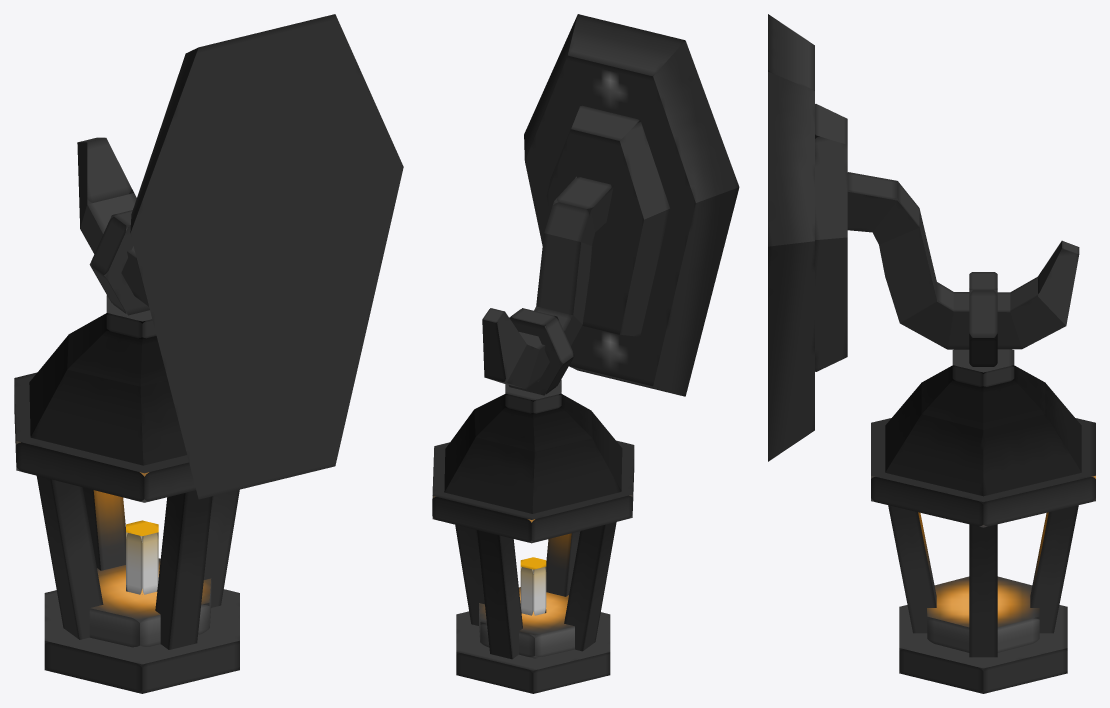
Rendered from lantern and hook.fbx.
3 views of the same model, side by side, from view 1: azimuth 30°, elevation 25°; view 2: azimuth 150°, elevation 25°; view 3: azimuth 270°, elevation 25° (orthographic). The views are drawn at different scales.
Visible parts, largest first — view 1: wall hook, lantern; view 2: wall hook, lantern; view 3: lantern, wall hook.
Boxes of the visible parts, box(x1,y1,x2,y2) form: wall hook: box(77, 14, 403, 499); lantern: box(14, 210, 239, 693); wall hook: box(482, 14, 739, 396); lantern: box(432, 308, 634, 693); lantern: box(871, 272, 1095, 693); wall hook: box(768, 14, 1079, 461).
Size of the model in its own units: 36.37 by 90.14 by 43.75.
1 material, 1 textured.
